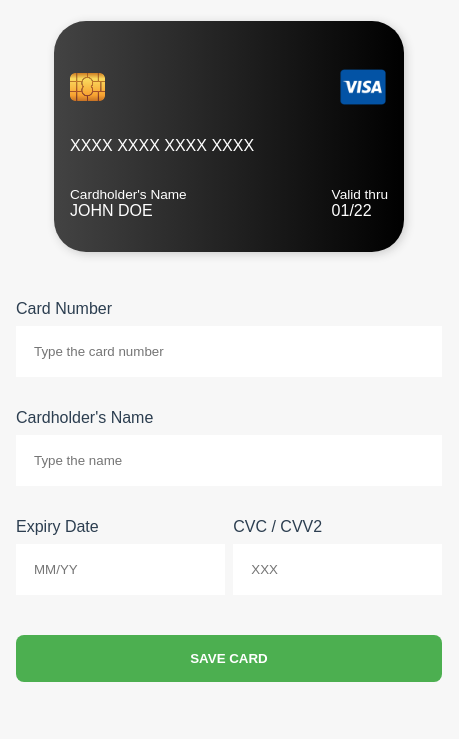
Scenario: Card Form page › checks if errors is shown when an input is empty
(page scrolled)
Click the button with test id "submit" at {"x": 229, "y": 659}, box x1=16 y1=635 x2=442 y2=682
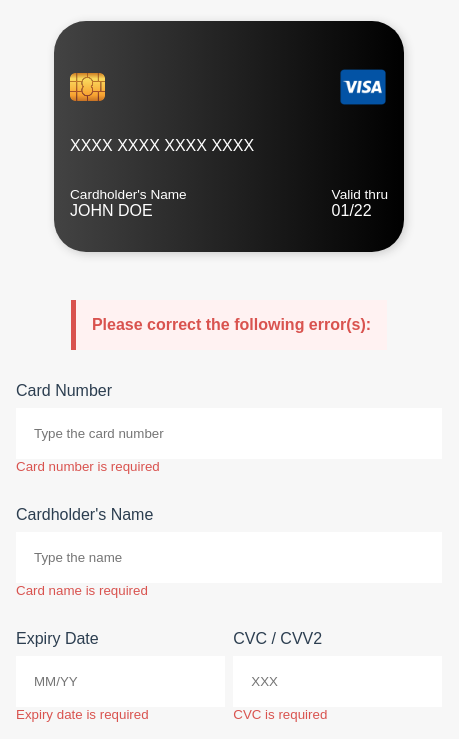
Now the text with test id "card-number-error" reads "Card number is required", box x1=16 y1=459 x2=160 y2=474
Now the text with test id "card-name-error" reads "Card name is required", box x1=16 y1=583 x2=148 y2=598
Now the text with test id "expiry-date-error" reads "Expiry date is required", box x1=16 y1=707 x2=149 y2=722
